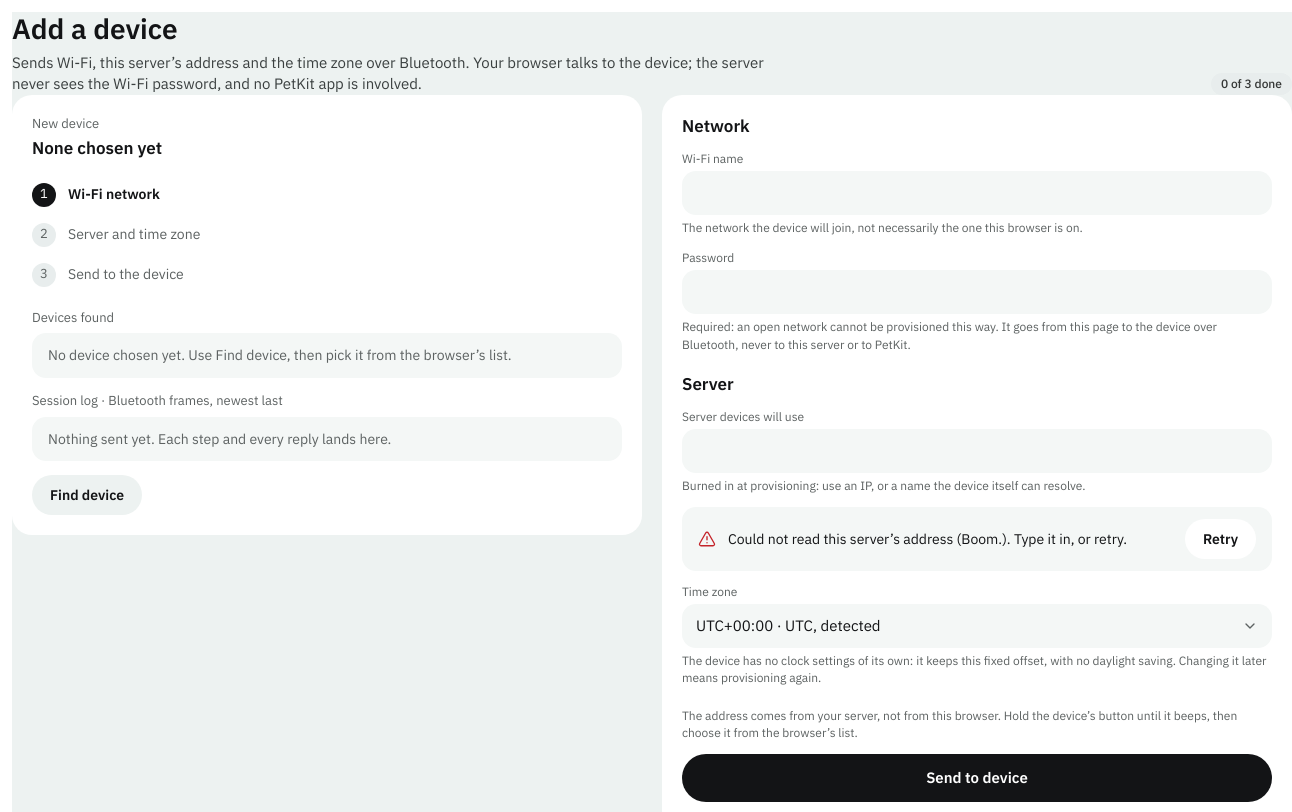
it: ProvisionPage › shows a retryable error when the server address cannot be read
The image size is (1292, 812).
Check: the message shows "Boom.", box [728, 530, 1127, 548]
Click the button "Retry". click: (1220, 539)
box: [1185, 519, 1256, 559]
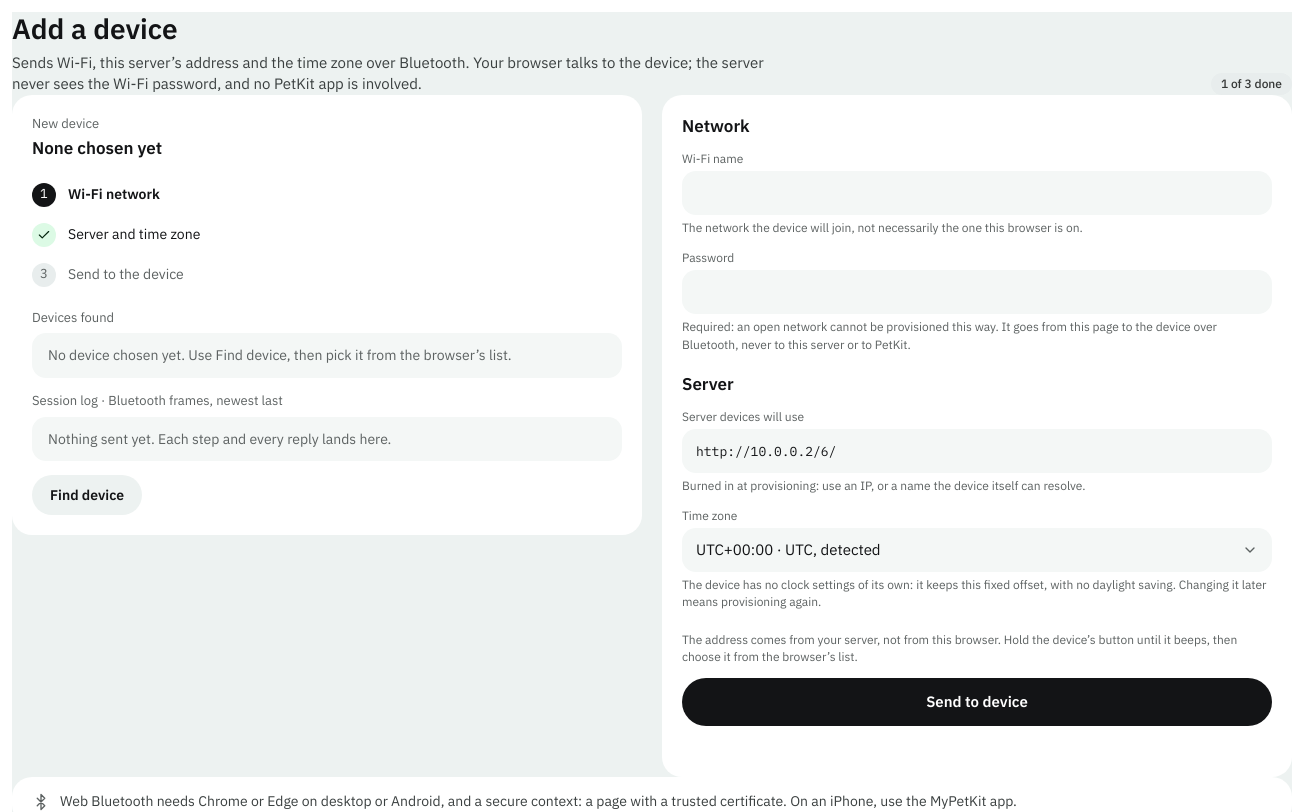
Check: the field showing "http://10.0.0.2/6/" is shown, box [682, 429, 1272, 473]
